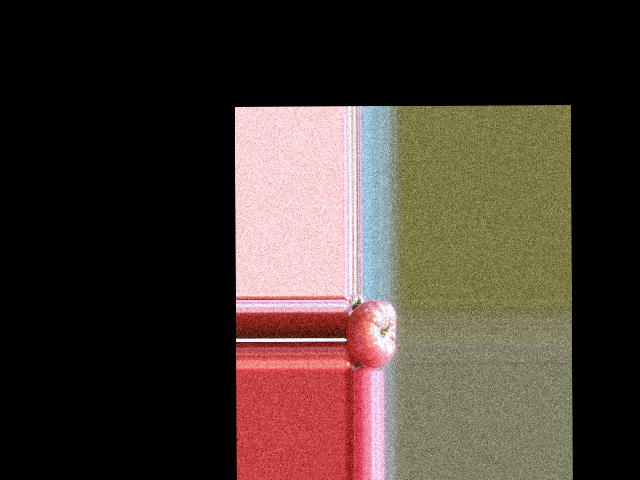tomato: (345, 300, 396, 369)
